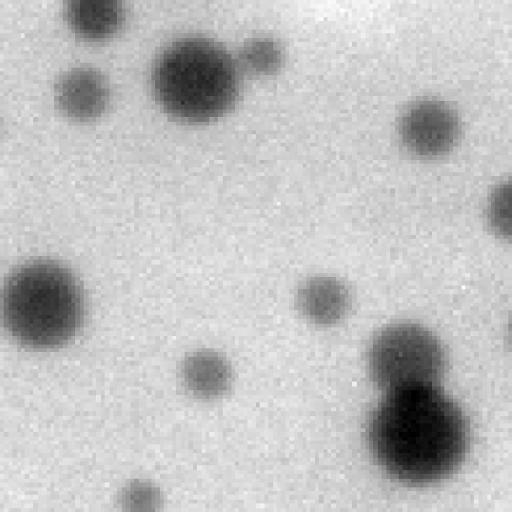Nanoparticles: (361, 382, 473, 485), (0, 247, 91, 362), (153, 30, 242, 130), (361, 321, 454, 392), (394, 95, 468, 166), (54, 58, 117, 133), (181, 346, 242, 402), (294, 272, 352, 328), (61, 0, 132, 42), (241, 28, 288, 83), (486, 171, 512, 256), (118, 476, 166, 512)
